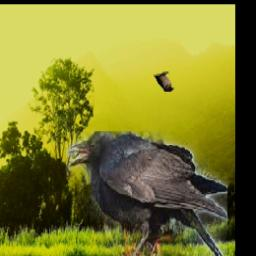Crow: (66, 132, 227, 256)
Swallow: (155, 73, 175, 93)
